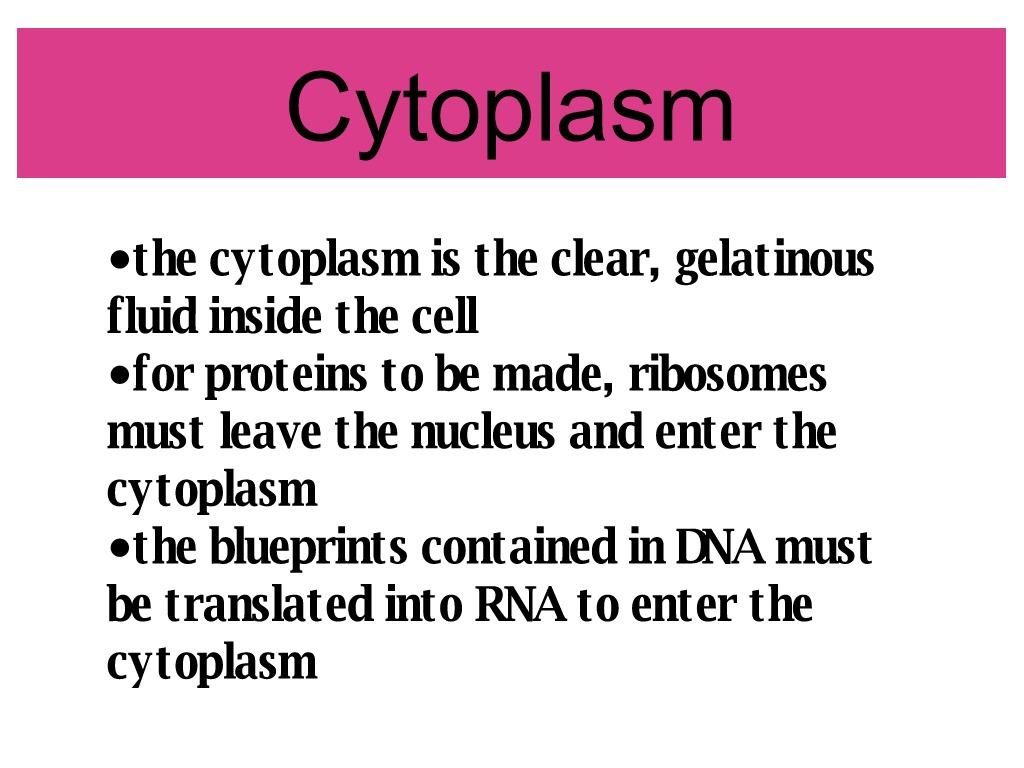paragraph: (96, 206, 911, 710)
title: (279, 59, 759, 171)
